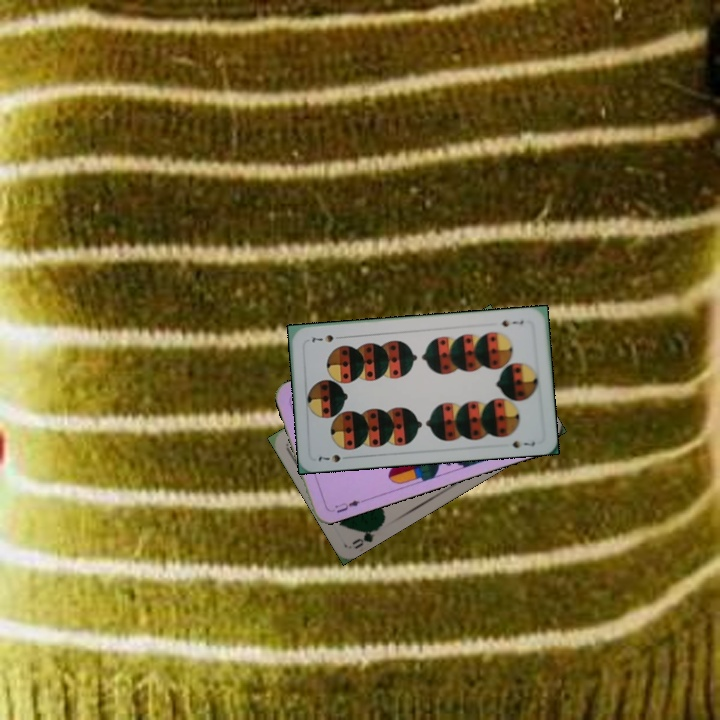EU: (331, 496, 367, 516)
GO: (348, 521, 384, 551)
S7: (314, 450, 353, 465), (498, 316, 526, 329)
